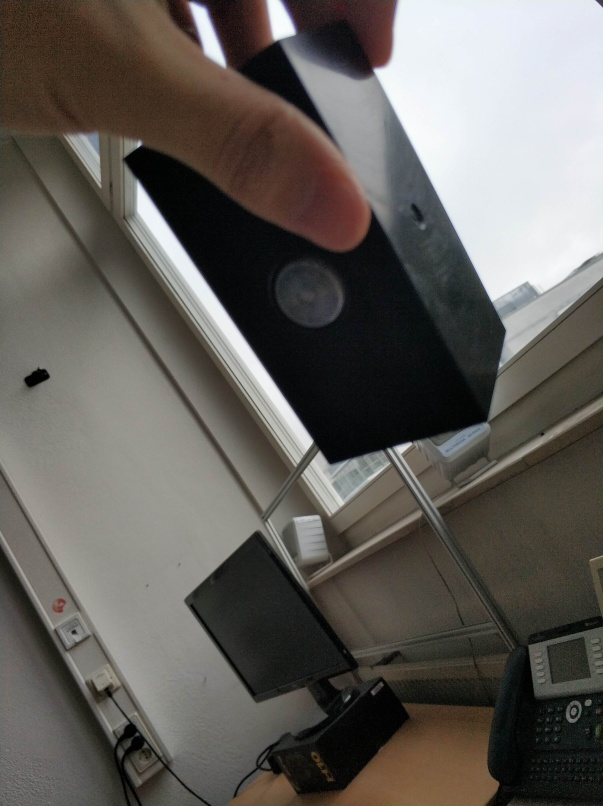black+black+silver: (113, 23, 508, 470)
